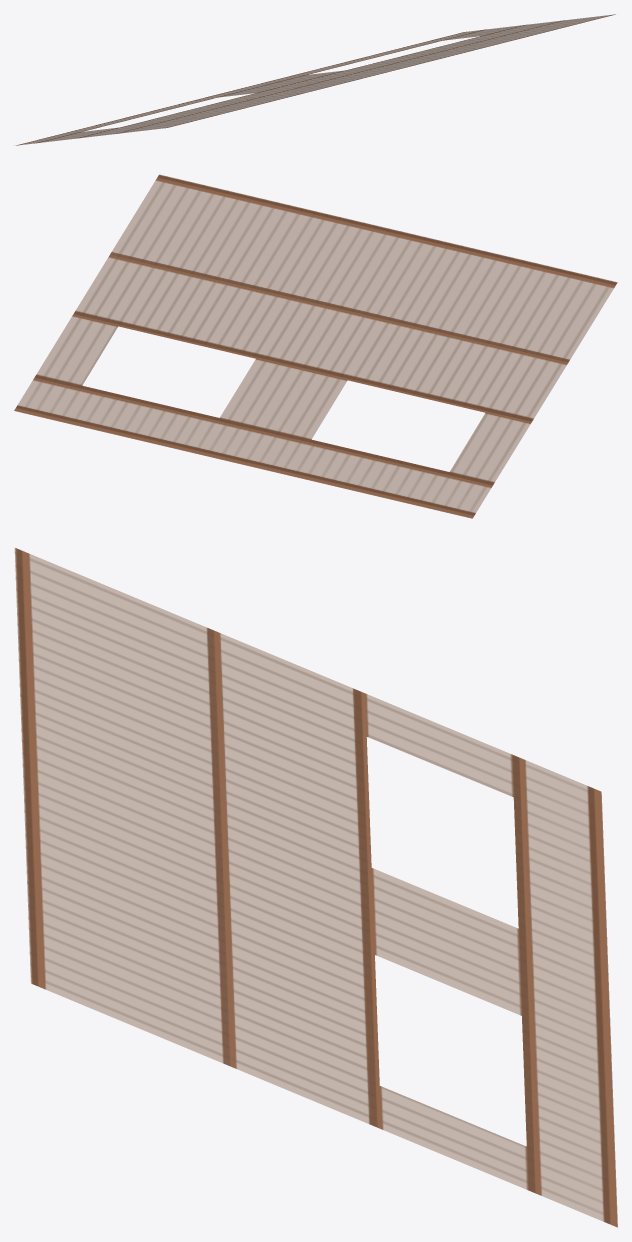
File: TOIT.FBX
The picture shows the model from 3 angles, top to bottom: view 1: azimuth 30°, elevation 25°; view 2: azimuth 150°, elevation 25°; view 3: azimuth 270°, elevation 25°; orthographic projection. The views are drawn at different scales.
Visible parts, largest first — view 1: Plane010; view 2: Plane010; view 3: Plane010.
Part boxes in pixels (x1,y1,x2,y2): Plane010: (14,14,615,145); Plane010: (14,174,617,518); Plane010: (14,548,617,1227).
Size of the model in its own units: 1134 by 299 by 658.
Materials: 1 (1 with a texture image).
